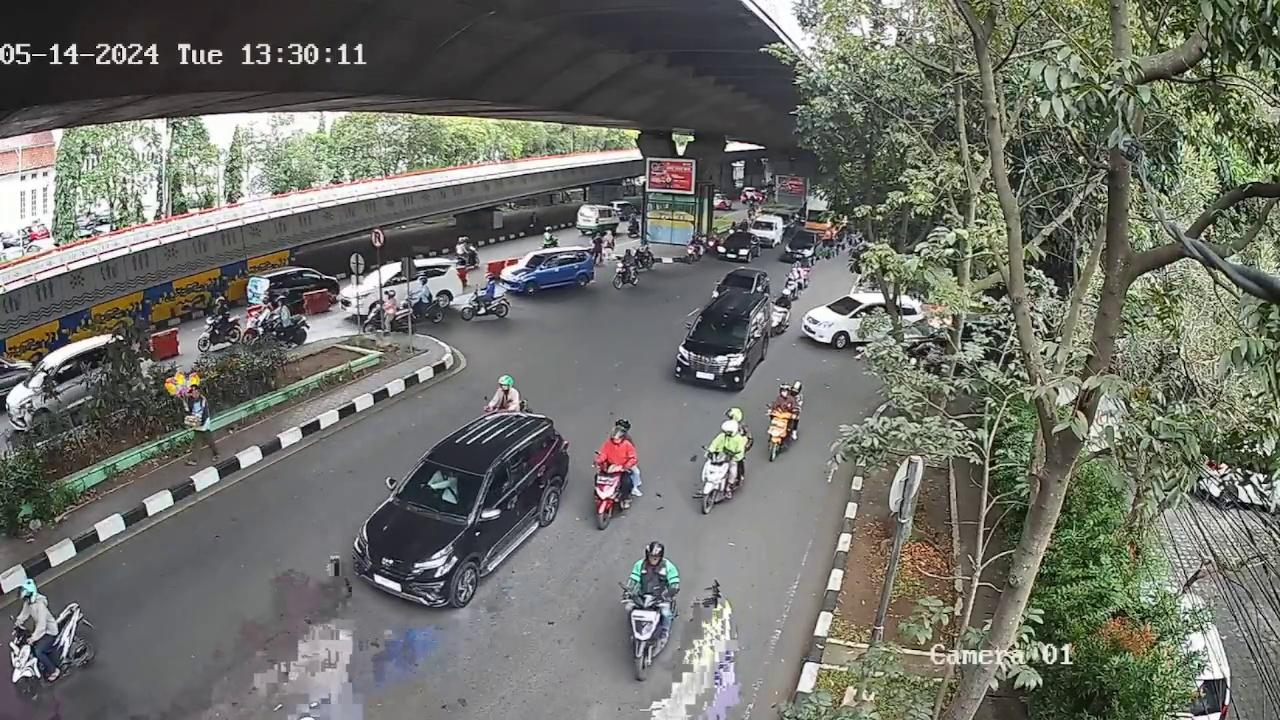pakai: (424, 469, 459, 506)
windshield: (392, 457, 488, 516), (683, 306, 756, 342)
